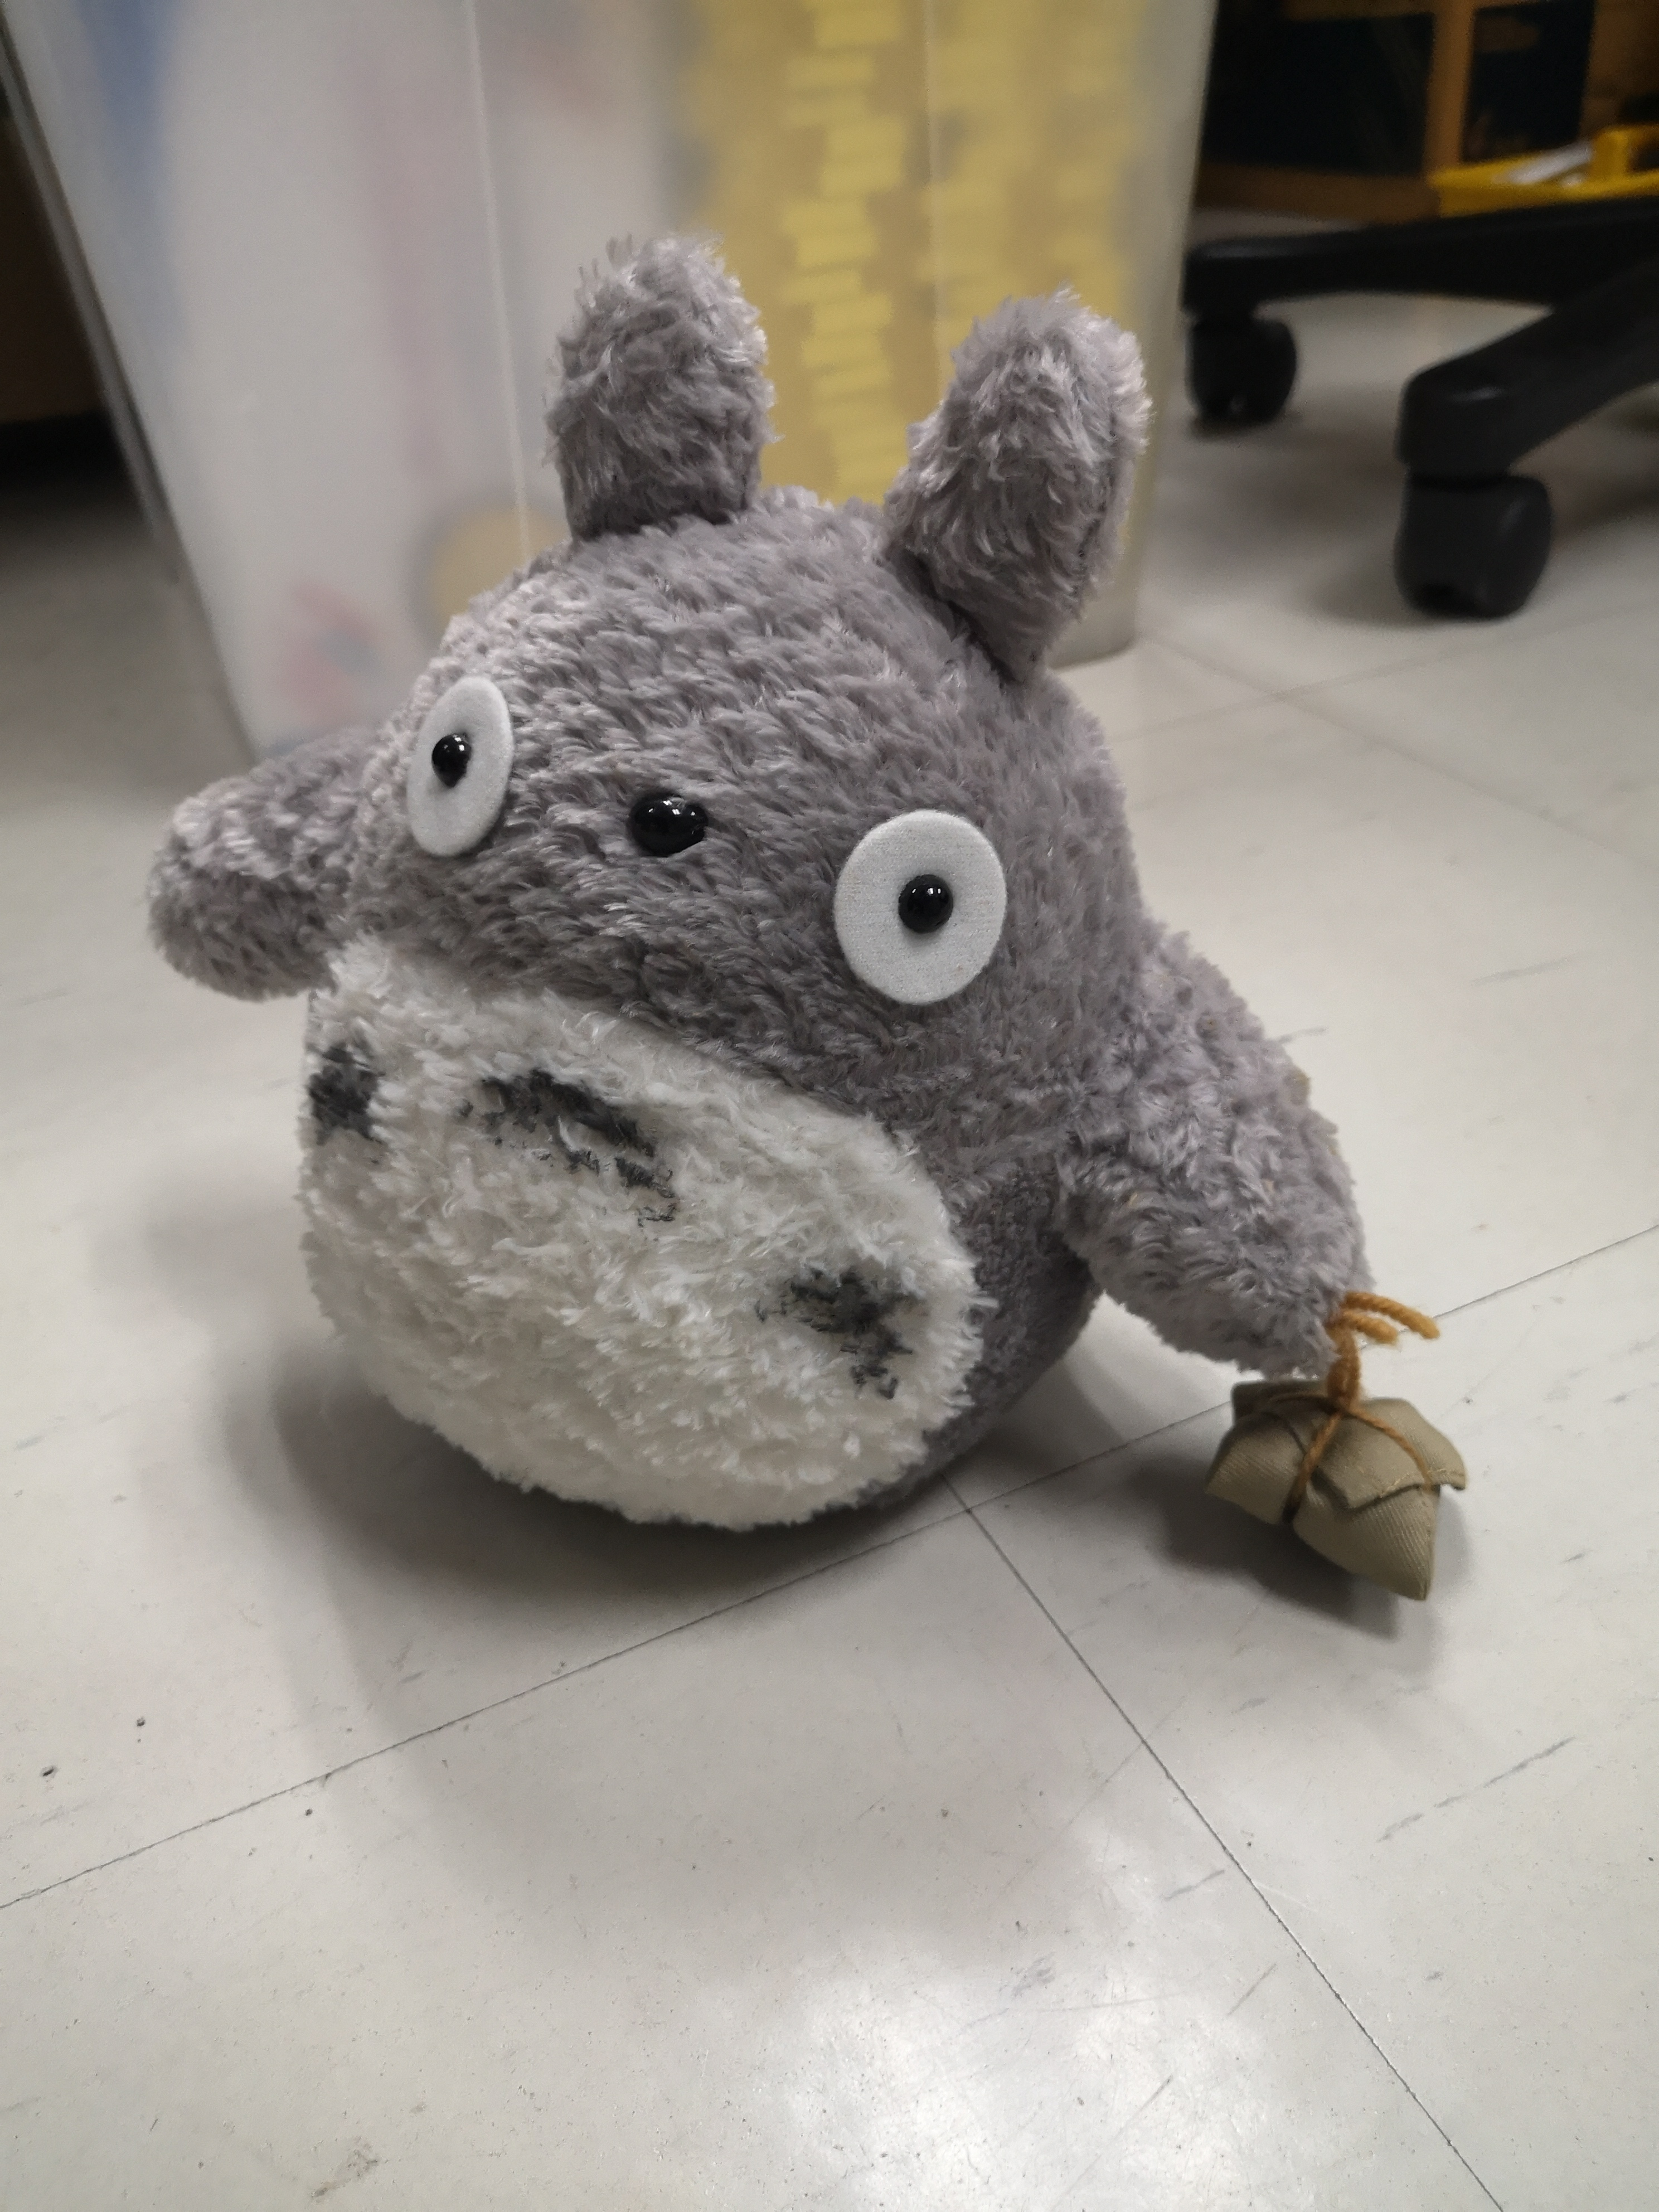totoro: (120, 211, 1485, 1644)
